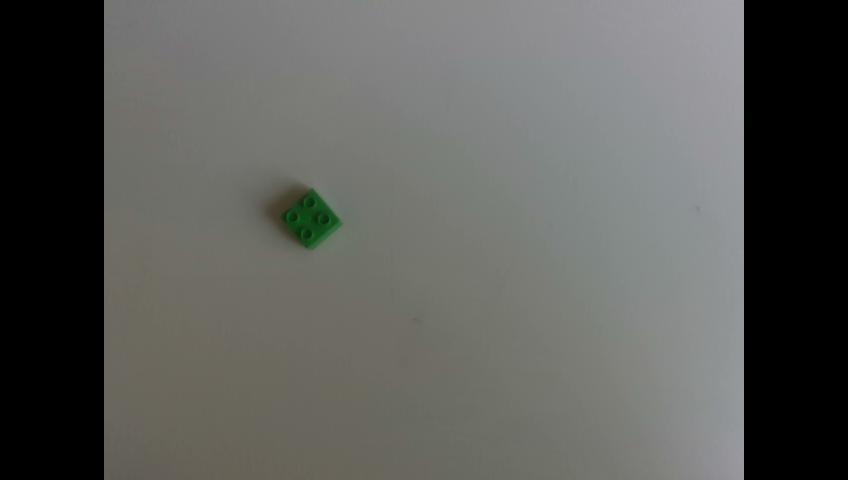2x2_green: (284, 188, 343, 248)
